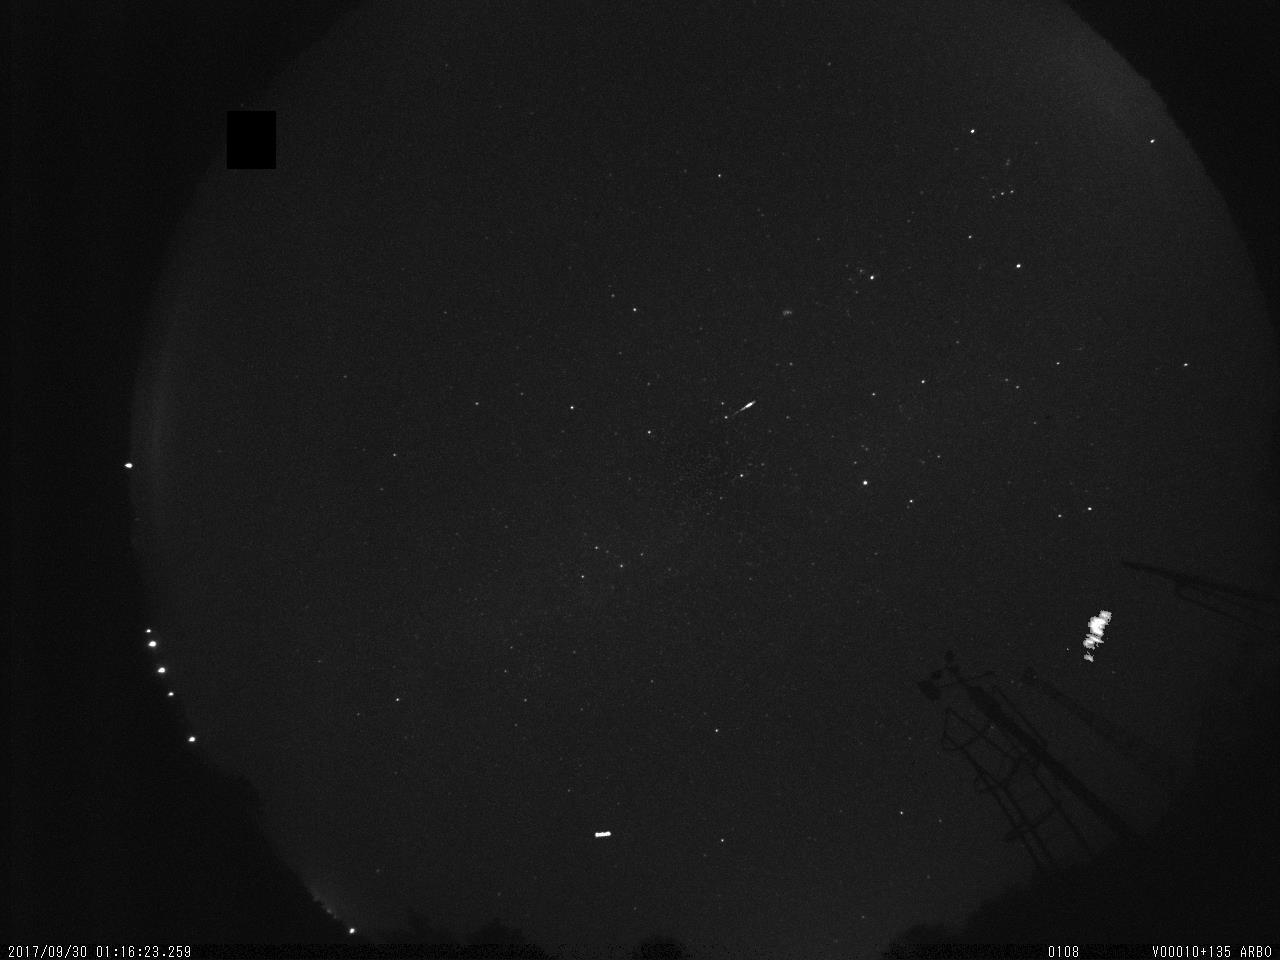TLE: (1059, 609, 1127, 678)
